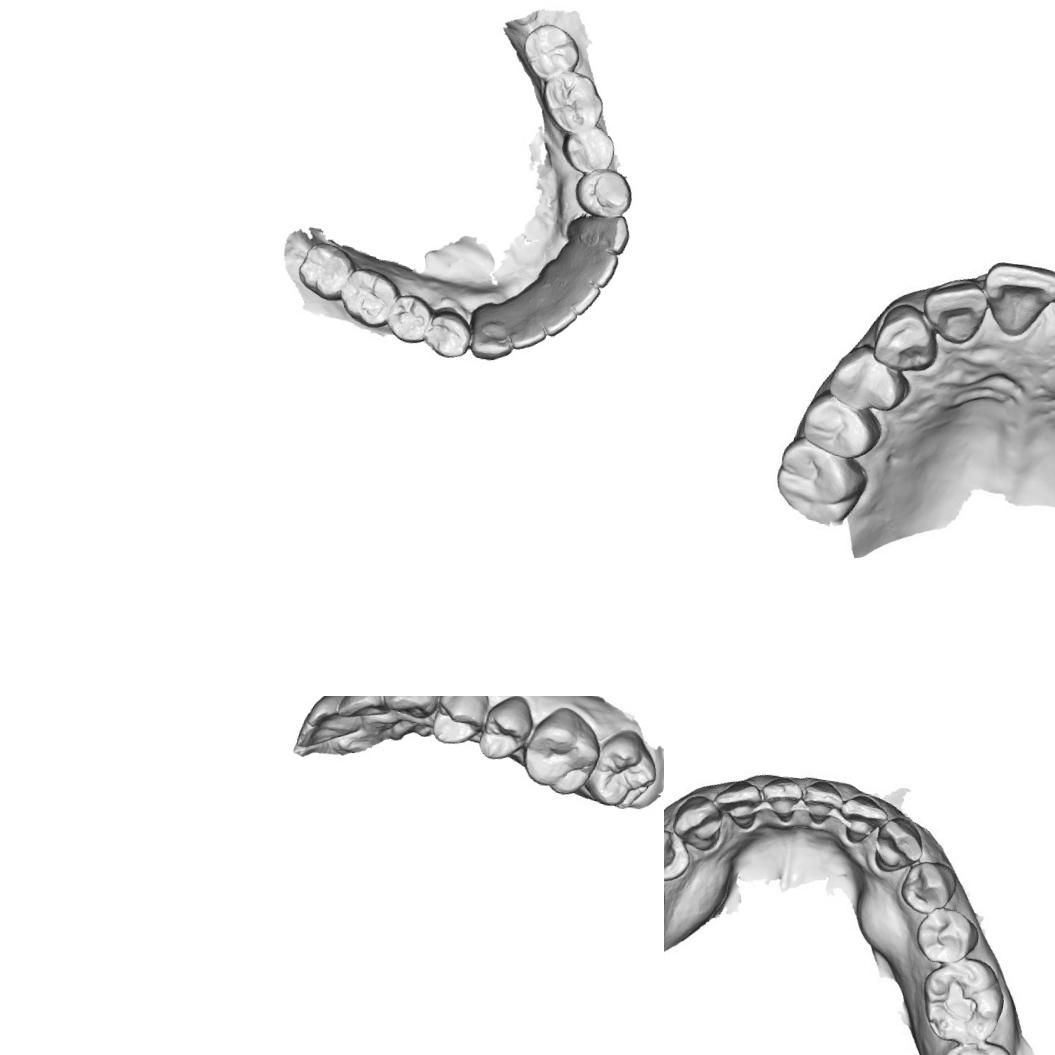canine: (872, 298, 942, 376), (564, 205, 634, 258), (871, 814, 928, 878), (668, 792, 726, 854), (464, 302, 518, 365), (380, 696, 446, 721)
incisor: (982, 257, 1055, 346), (920, 277, 992, 349), (836, 790, 890, 848), (710, 774, 764, 831), (288, 718, 348, 764), (798, 778, 846, 828), (504, 302, 550, 354), (758, 774, 804, 825), (556, 275, 603, 319), (574, 247, 621, 290), (539, 298, 580, 342), (301, 696, 352, 731), (335, 696, 394, 725)
molar: (770, 437, 874, 535), (916, 951, 1010, 1049), (518, 701, 606, 802), (588, 724, 664, 816), (800, 392, 887, 463), (537, 67, 608, 139), (336, 264, 404, 332), (293, 236, 359, 305), (516, 18, 584, 84), (934, 1035, 1022, 1055)
premolar: (825, 339, 913, 416), (912, 904, 983, 968), (478, 696, 540, 765), (571, 164, 637, 222), (898, 857, 960, 918), (429, 696, 492, 751), (559, 122, 618, 178), (423, 305, 475, 362), (385, 290, 436, 348), (664, 824, 694, 885)
